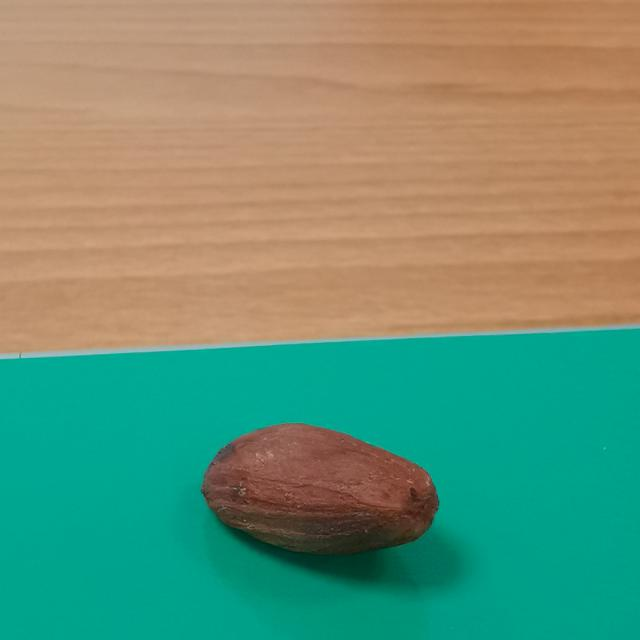Fine_cocoabeans: (115, 384, 567, 625)
